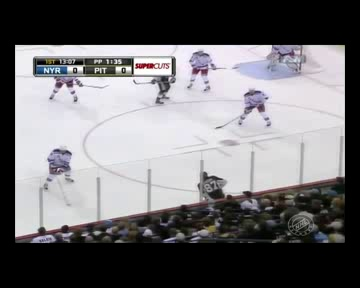normal: (36, 144, 83, 190), (235, 83, 280, 130), (195, 172, 228, 200)
